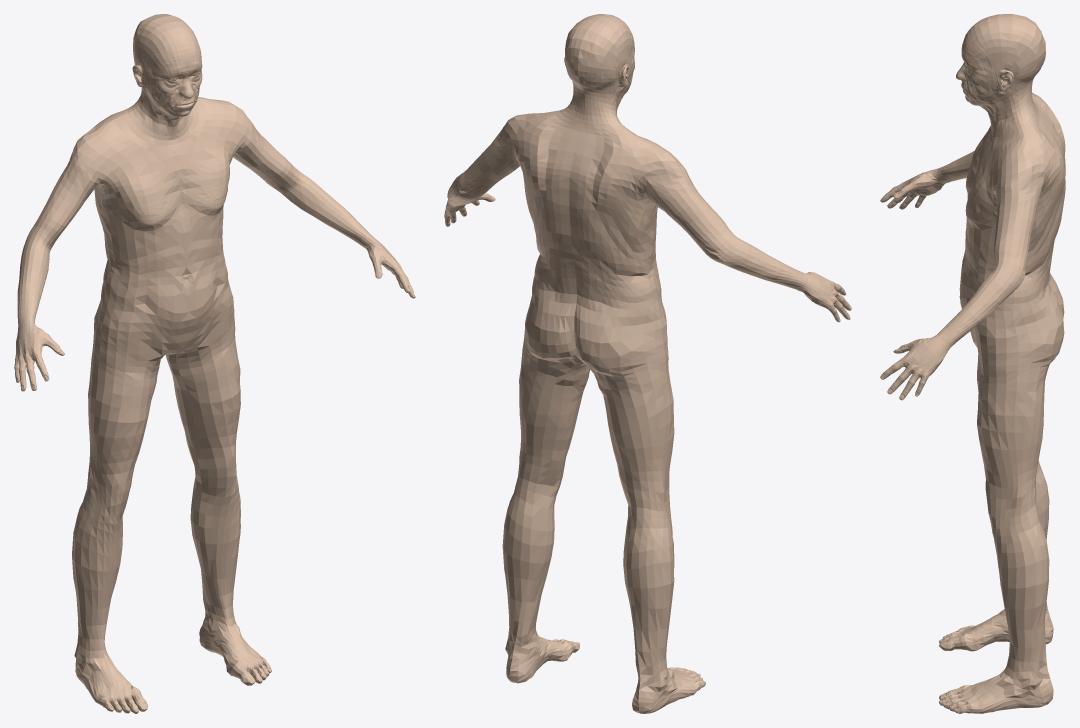
File: male-elder-average-medium.glb
3 renders of one model, left to right at view 1: azimuth 30°, elevation 25°; view 2: azimuth 150°, elevation 25°; view 3: azimuth 270°, elevation 25°, orthographic.
Visible parts, largest first — view 1: world; view 2: world; view 3: world.
Part boxes in pixels (bbox=[...]): world: bbox=[14, 14, 415, 713]; world: bbox=[444, 14, 851, 713]; world: bbox=[880, 14, 1065, 713].
Size of the model in its own units: 1.2 by 1.92 by 0.4908.
